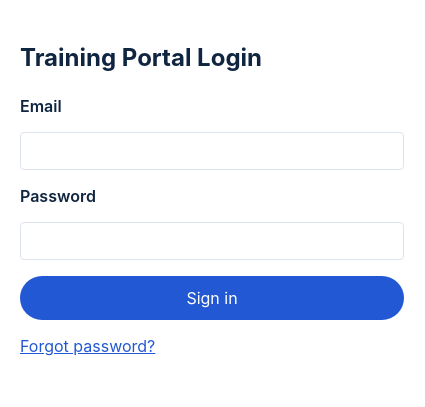
Test: LoginForm › sends a password reset email when "Forgot password?" is clicked
The width and height of the screenshot is (425, 407).
Type "trainee@example.com" into the field labelled "Email" at (212, 150), box [20, 132, 404, 170]
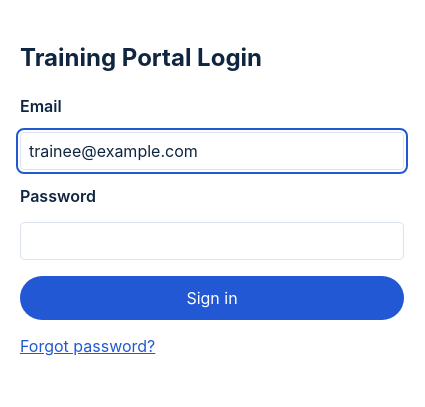
Click the button "Forgot password?" at (88, 346), box [20, 336, 155, 356]
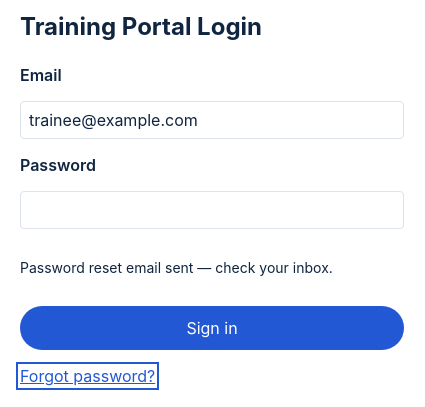
Expected: the message shows "reset email sent", [20, 259, 333, 276]
